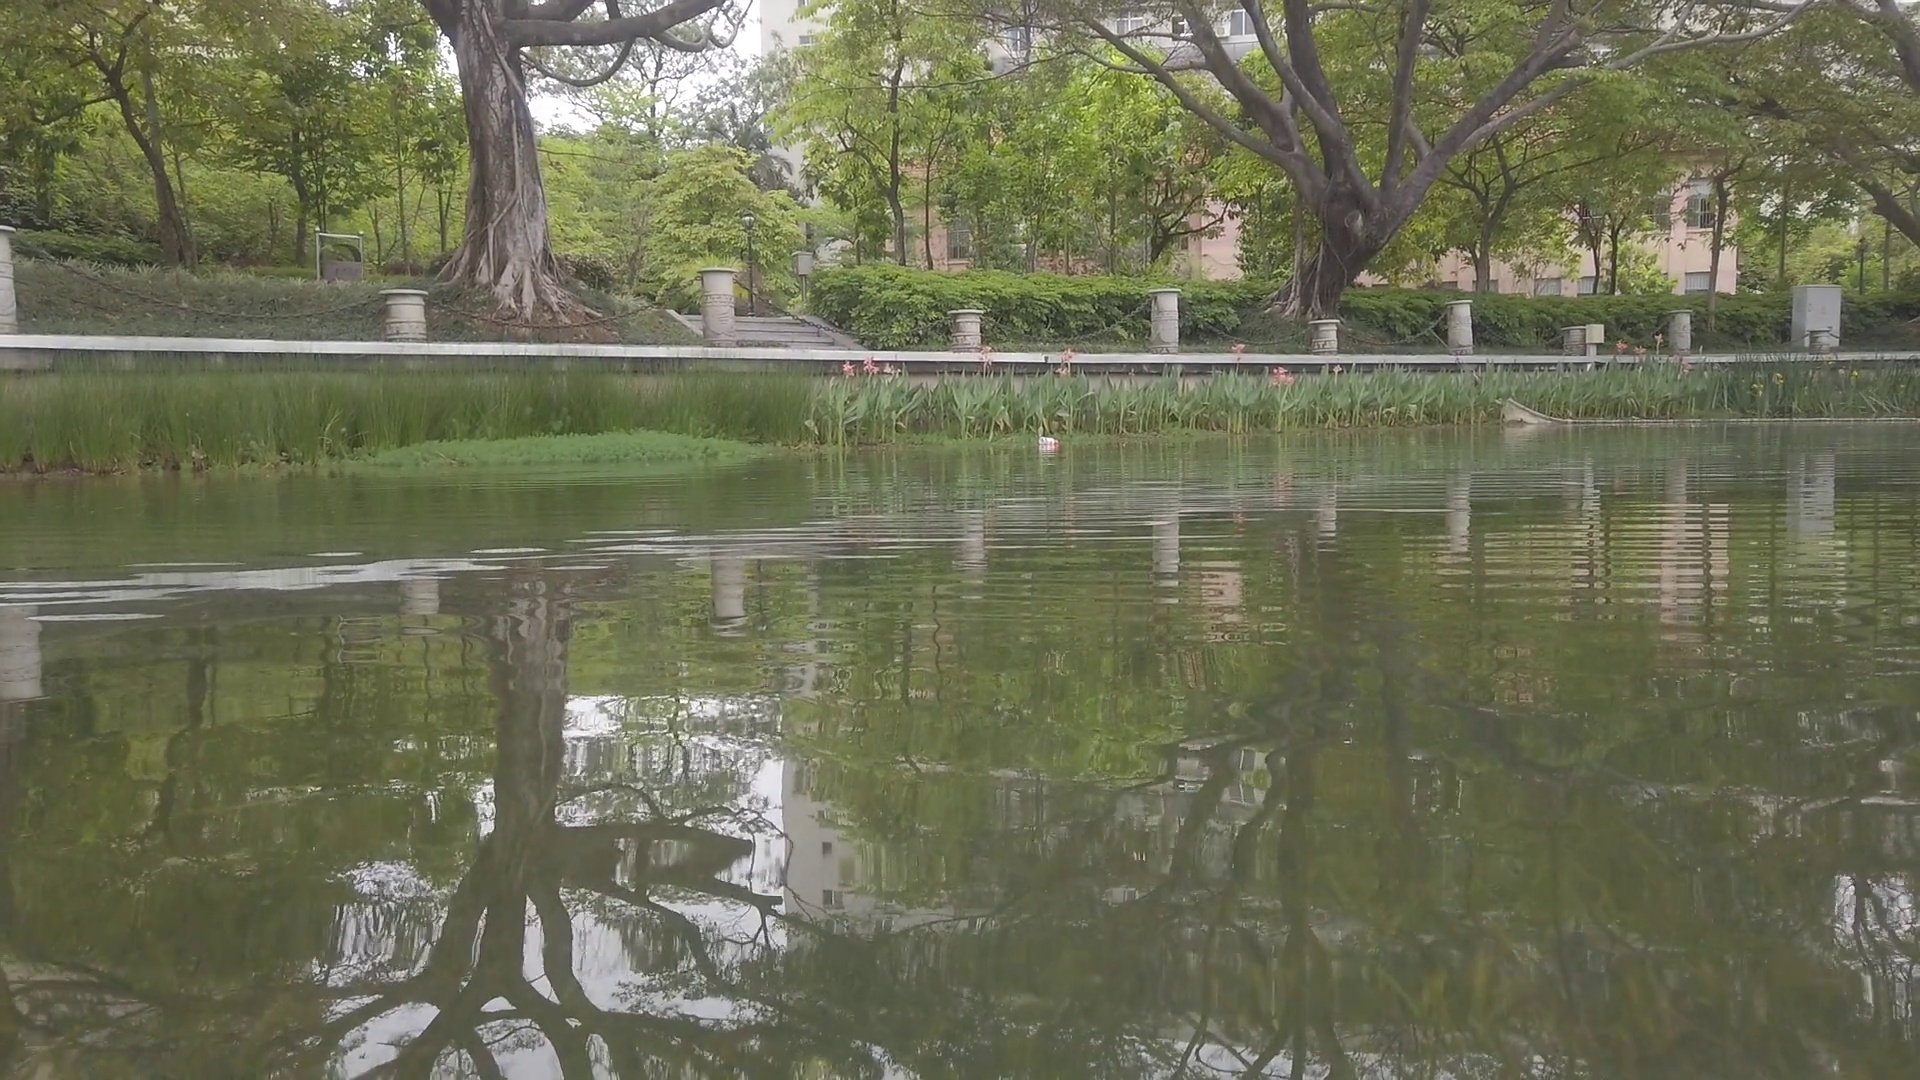bottle: (1038, 436, 1059, 444)
